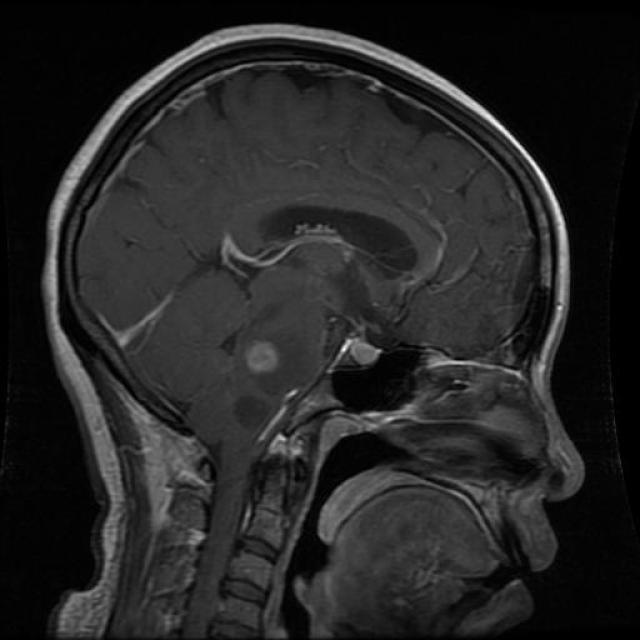glioma: (222, 192, 448, 288)
